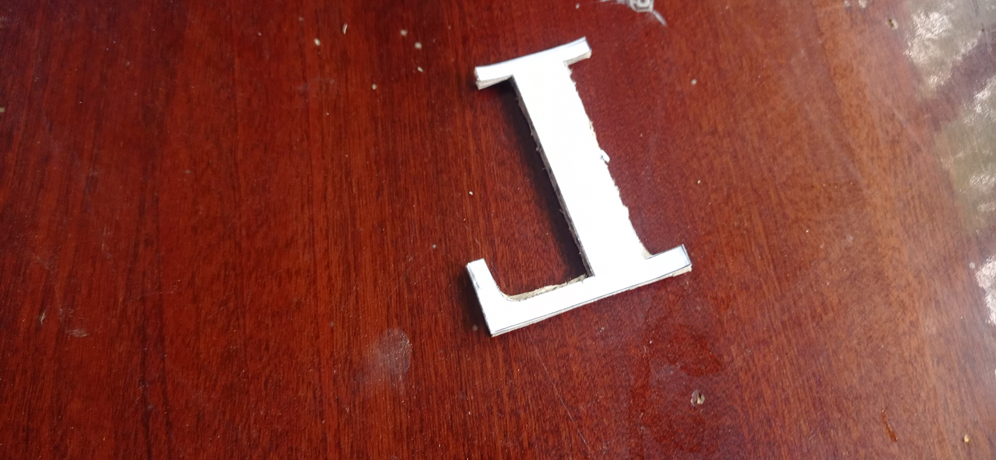g: (464, 37, 693, 338)
